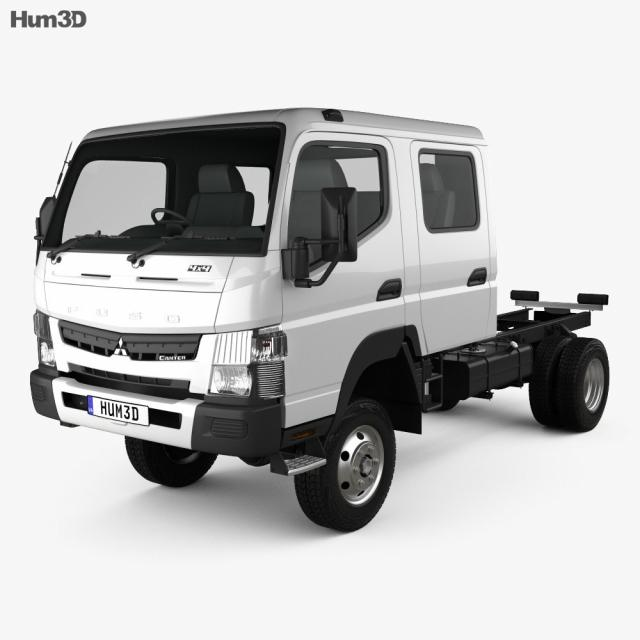Truck: (31, 106, 614, 531)
